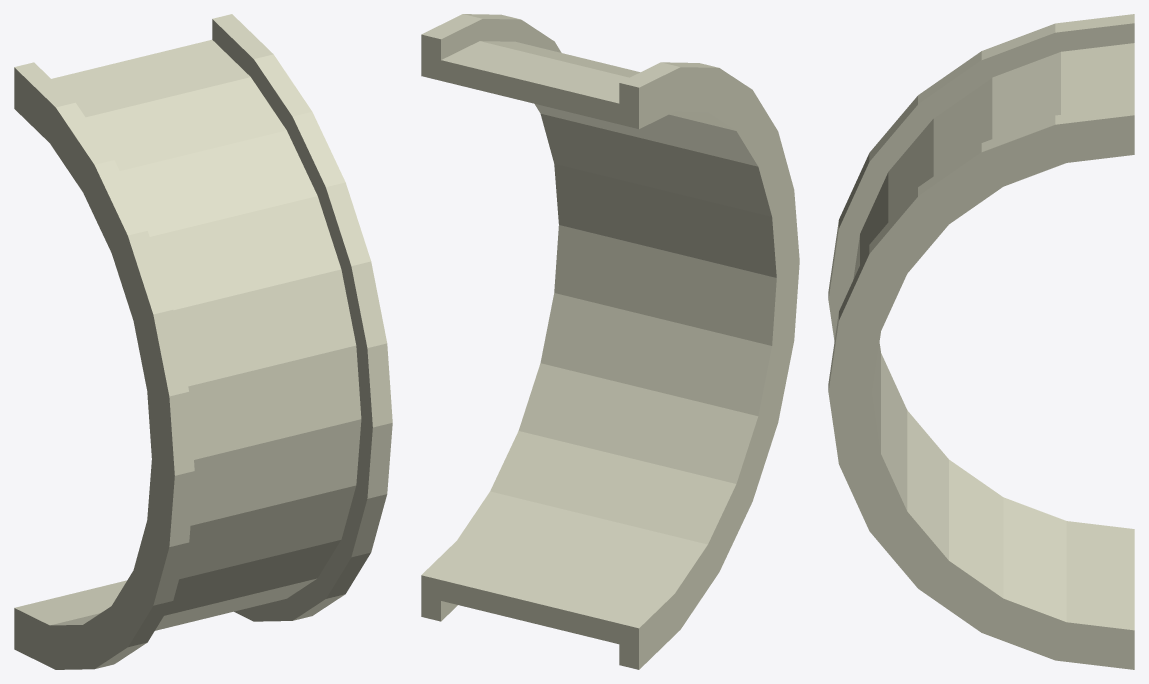
The model's file is section_024.obj.
3 renders of one model, left to right at view 1: azimuth 30°, elevation 25°; view 2: azimuth 150°, elevation 25°; view 3: azimuth 270°, elevation 25°, orthographic. The views are drawn at different scales.
Bounding box in the file's own units: 10.97 × 28 × 14.
